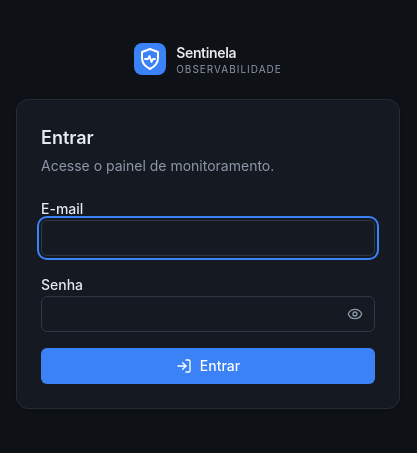
Test: login › exibe mensagem para credenciais inválidas
In the field labelled "E-mail": (208, 238) [41,220,375,256], type "a@b.com"
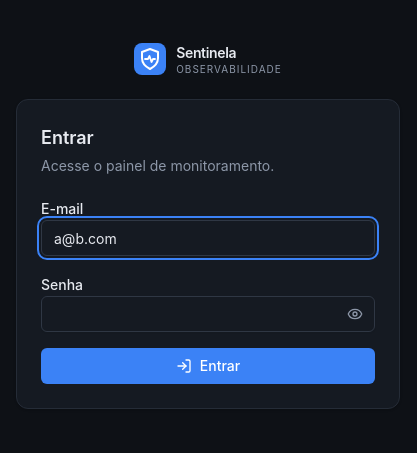
In the password field labelled "Senha": (208, 314) [41,296,375,332], type "errada"
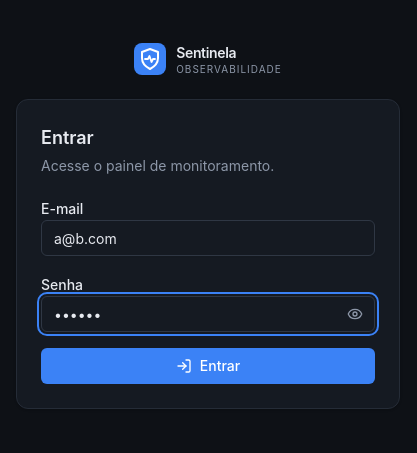
Click the button "Entrar": (208, 366) [41,348,375,384]
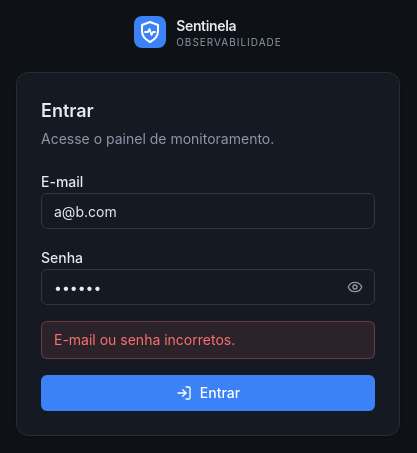
Result: the text "E-mail ou senha incorretos." is shown at [41,321,375,359]
